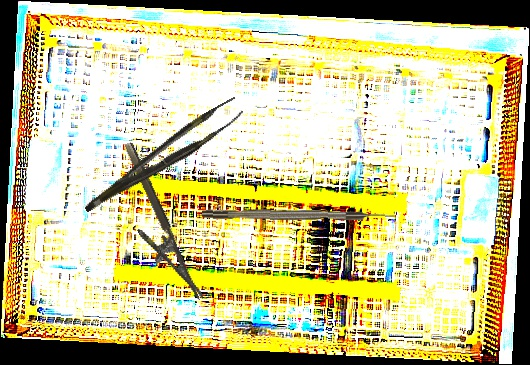Hook Surgical: (201, 208, 397, 222)
Needle Holder: (103, 140, 204, 312)
Tissue Forceps: (72, 96, 250, 213)
